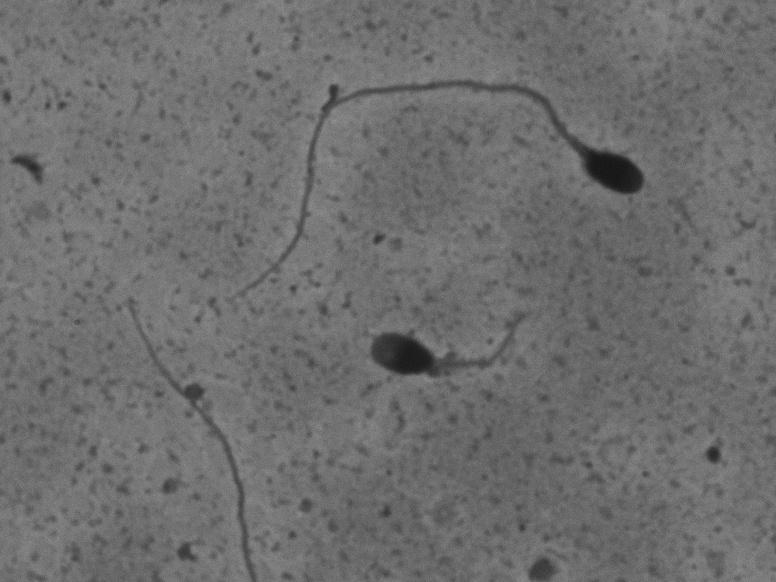Abnormal: (345, 267, 526, 401)
Normal: (186, 71, 658, 331)
